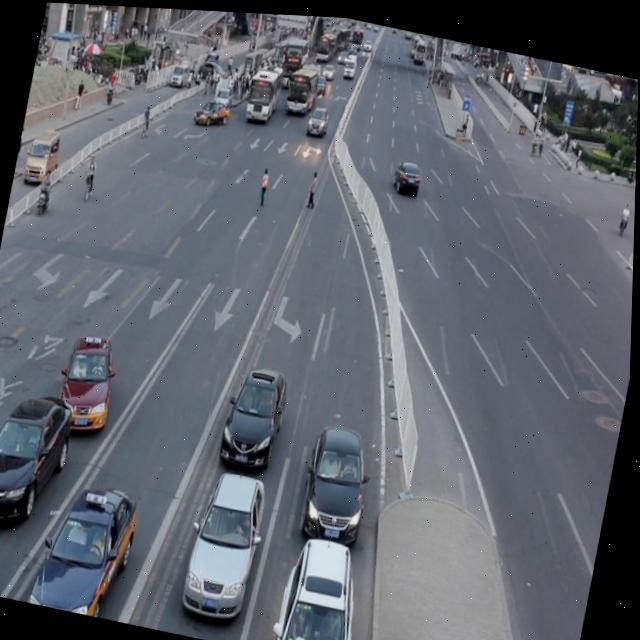car: (28, 470, 145, 621), (181, 460, 274, 624), (0, 381, 82, 537), (274, 526, 376, 640), (299, 416, 379, 545), (219, 355, 295, 474), (55, 329, 124, 438), (0, 512, 7, 595)
